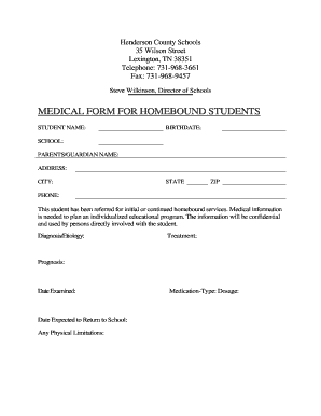textline: (71, 166, 292, 177), (69, 193, 289, 202), (93, 123, 165, 137), (219, 125, 293, 135), (221, 181, 289, 188), (186, 182, 209, 188)
